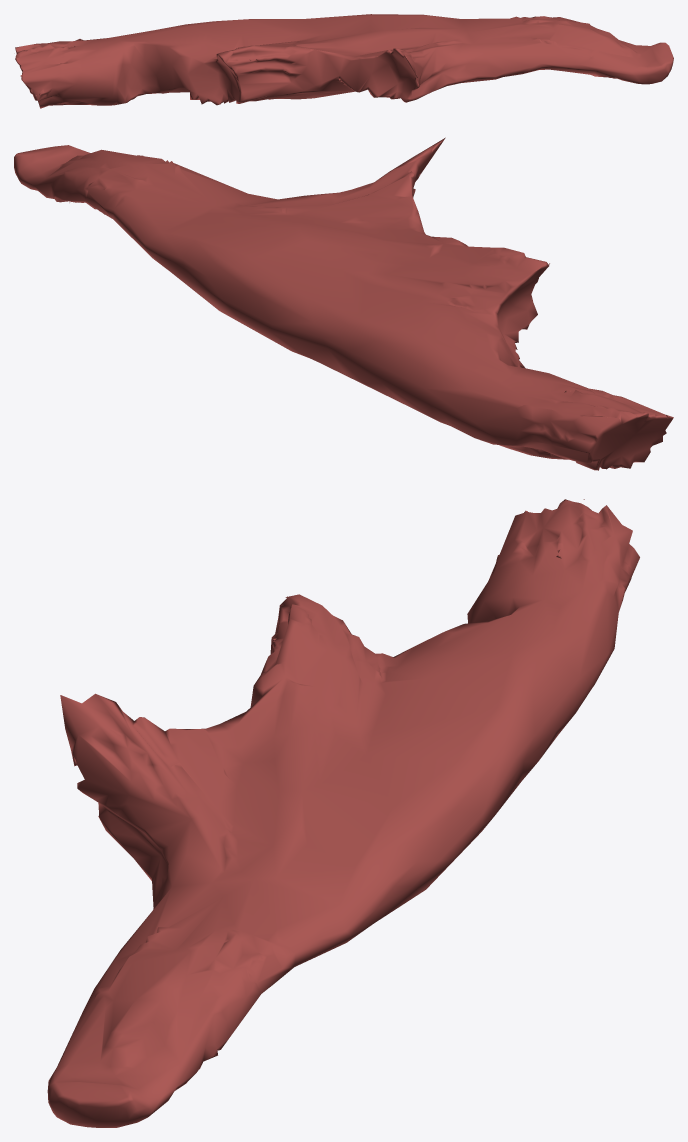
The model's file is FMA46020.glb.
3 renders of one model, top to bottom at view 1: azimuth 30°, elevation 25°; view 2: azimuth 150°, elevation 25°; view 3: azimuth 270°, elevation 25°, orthographic. The views are drawn at different scales.
Parts seen in each view (by area): view 1: FMA46020; view 2: FMA46020; view 3: FMA46020.
Part boxes in pixels (<box>): FMA46020: <box>15,14,673,108</box>; FMA46020: <box>14,137,673,470</box>; FMA46020: <box>47,499,639,1127</box>.
Bounding box in the file's own units: 0.0466 × 0.00726 × 0.0218.
